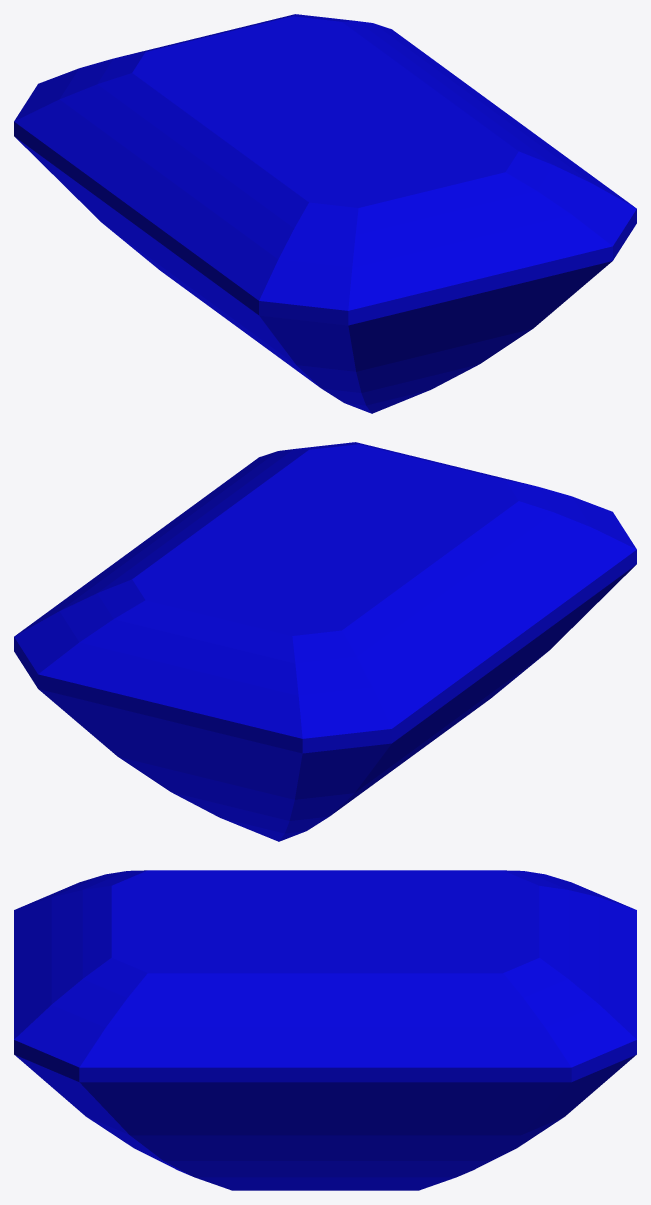
The model's file is Head_No Halo_Emerald_1.0ct_Diamond.glb.
The picture shows the model from 3 angles, top to bottom: view 1: azimuth 30°, elevation 25°; view 2: azimuth 150°, elevation 25°; view 3: azimuth 270°, elevation 25°; orthographic projection.
Size of the model in its own units: 0.00495 by 0.00335 by 0.00704.
